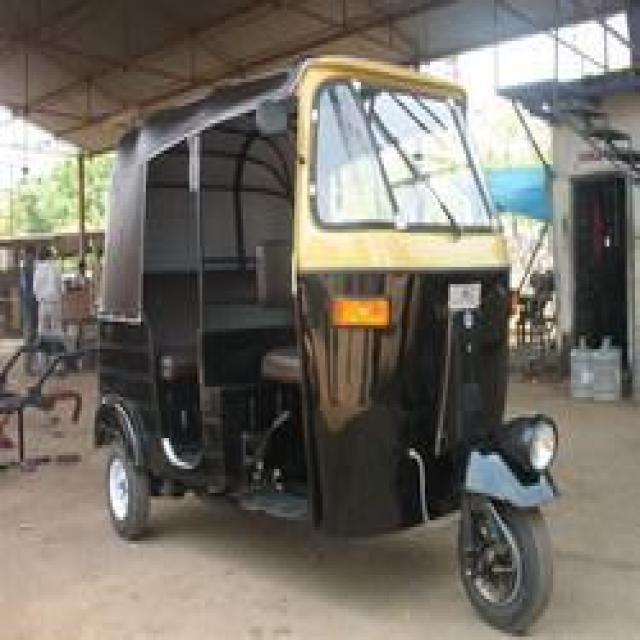auto ahead at: (91, 40, 574, 636)
